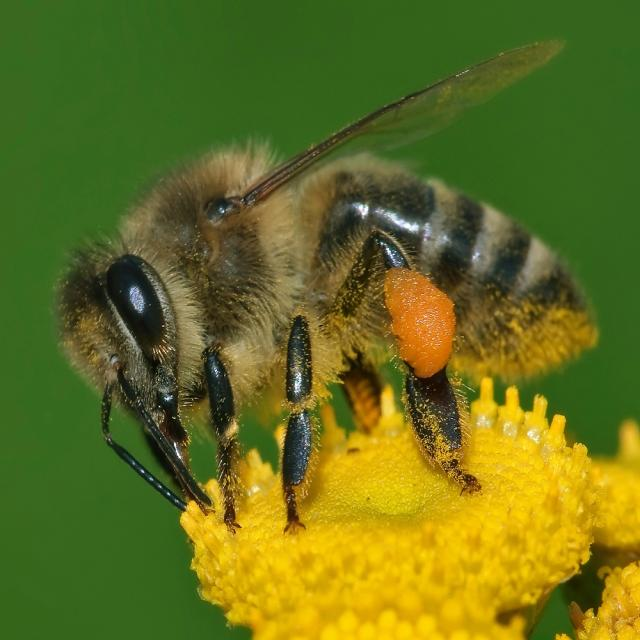Apis-mellifera-scutellata: (28, 25, 619, 546)
